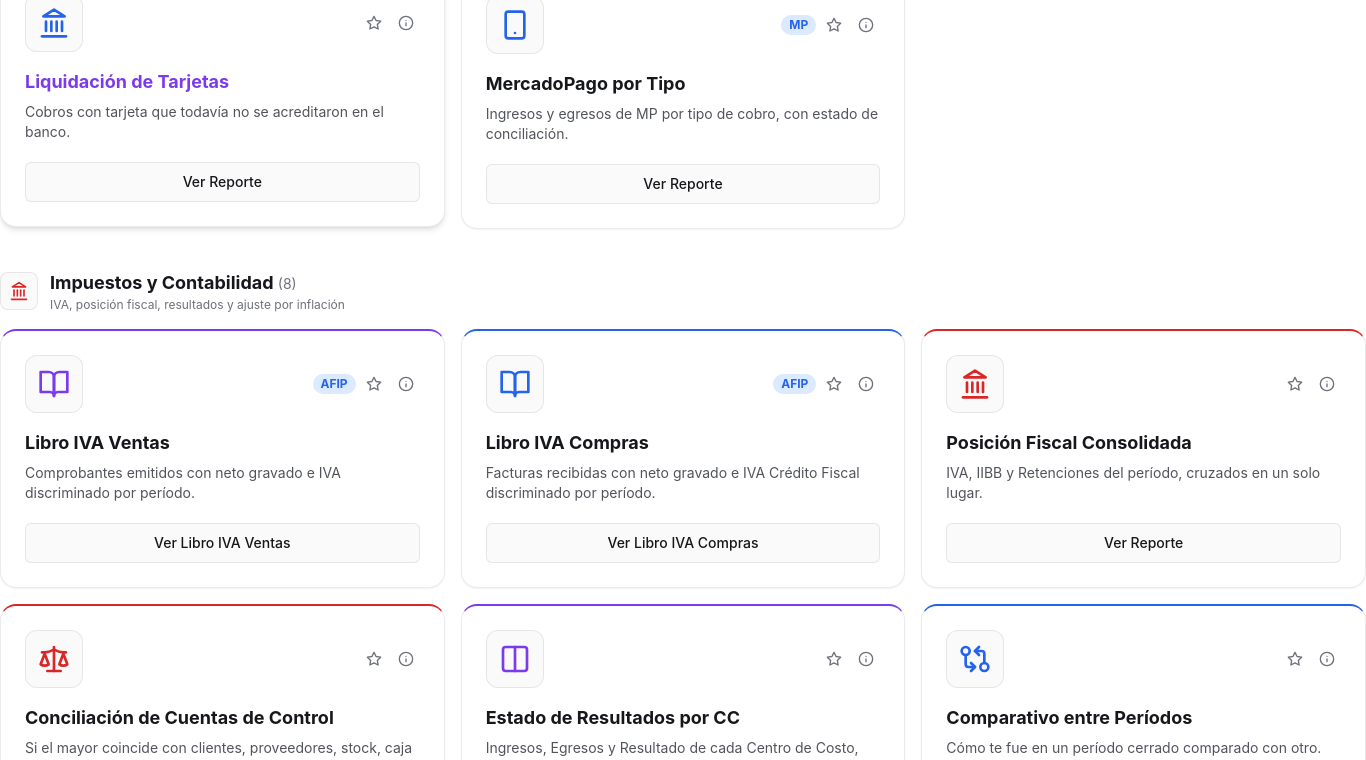
Test: GridReportes — abrir cada tipo de reporte › la "i" abre la explicación del reporte
The image size is (1366, 760).
(page scrolled)
Click the 5th button titled "Qué muestra este reporte": {"x": 1327, "y": 384} left=1313, top=370, right=1341, bottom=398
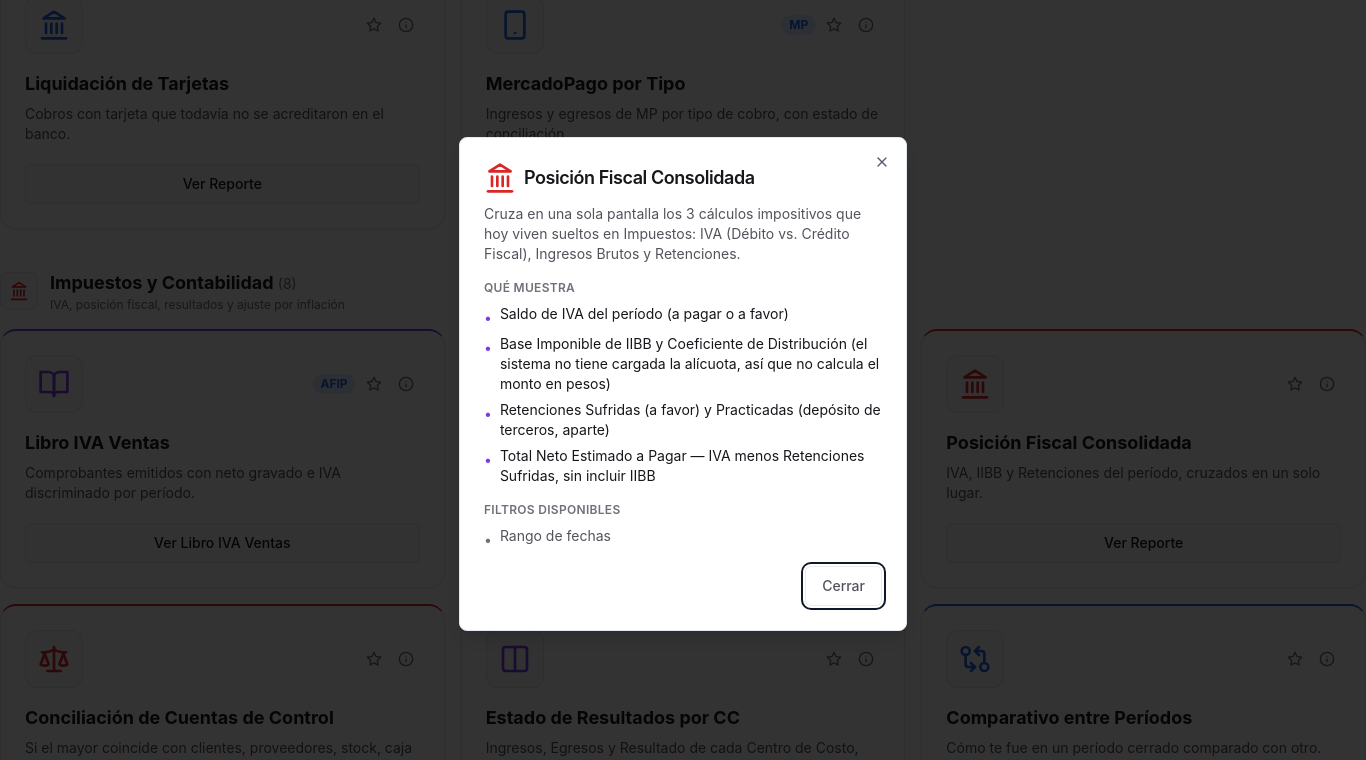
Now the text "Cruza en una sola pantalla los 3 cálculos impositivos" is shown, box left=484, top=205, right=861, bottom=262
